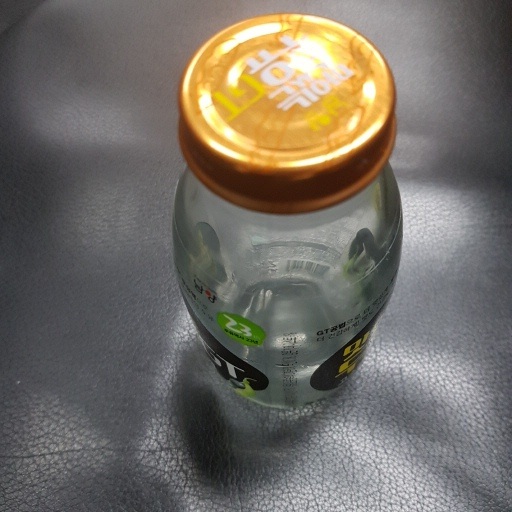Glass_4: (163, 14, 411, 413)
